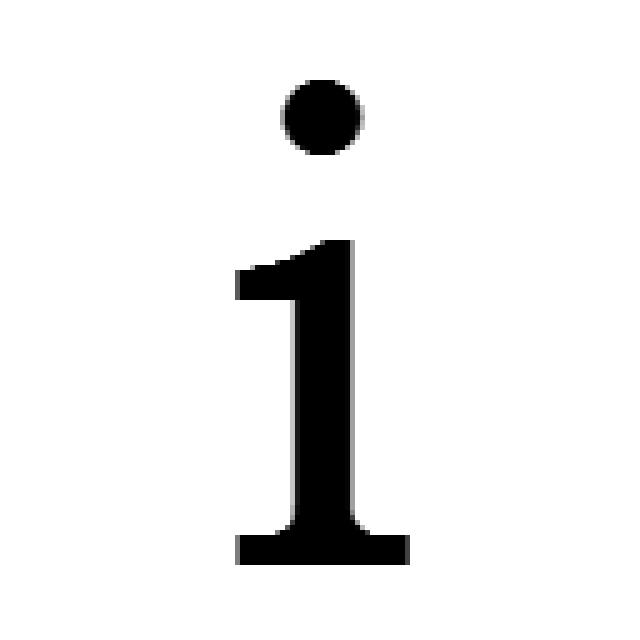I: (220, 74, 417, 571)
